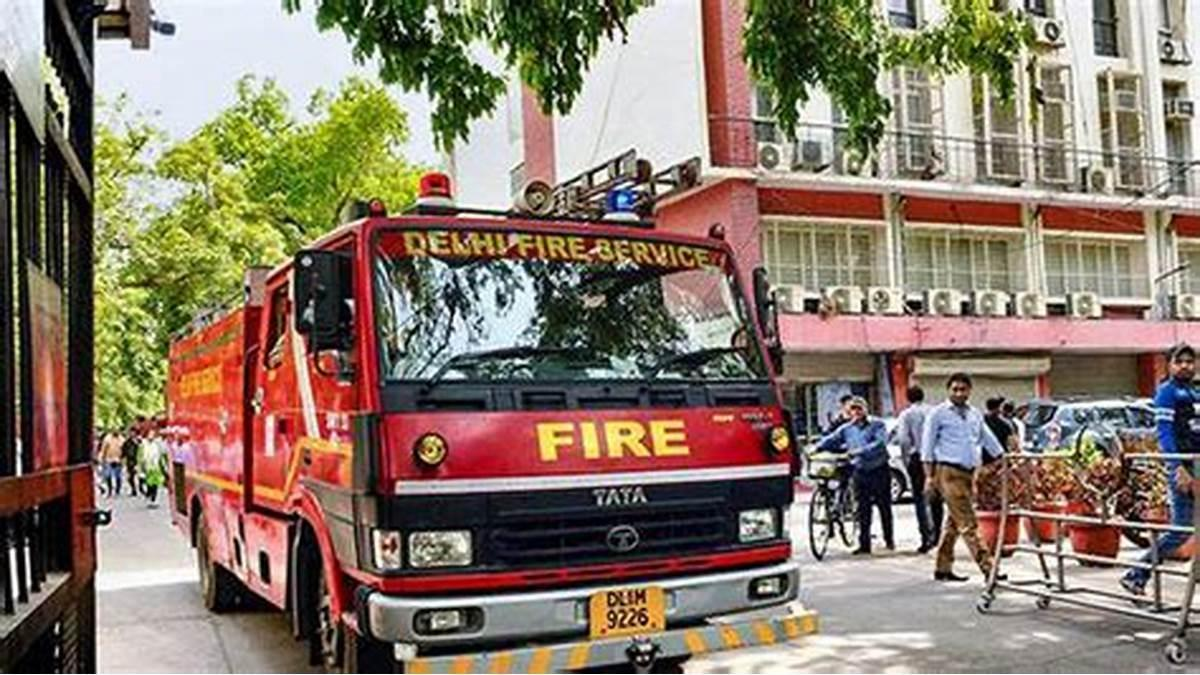Fire-engine: (164, 150, 822, 675), (524, 410, 703, 475), (417, 170, 459, 212)
